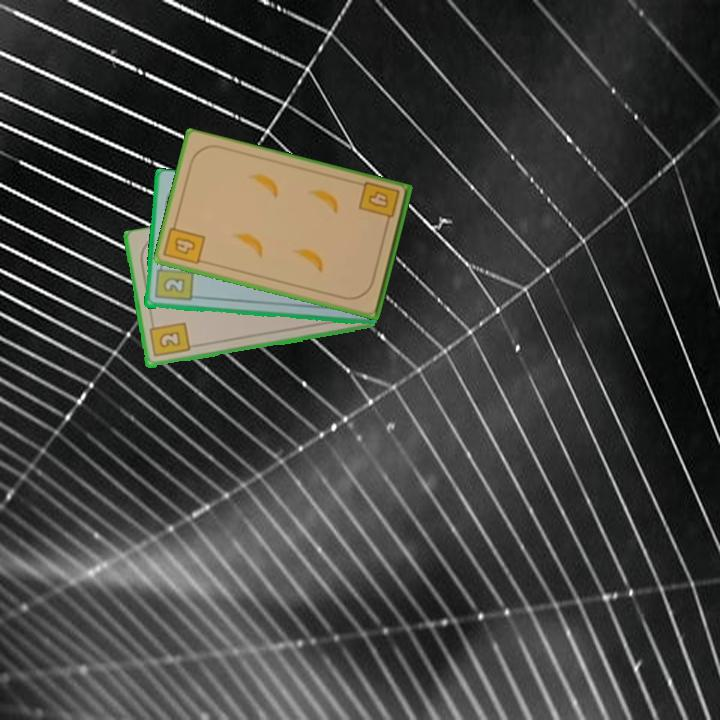2b: (151, 260, 195, 304), (146, 318, 192, 360)
4b: (356, 179, 403, 230), (161, 218, 208, 267)
